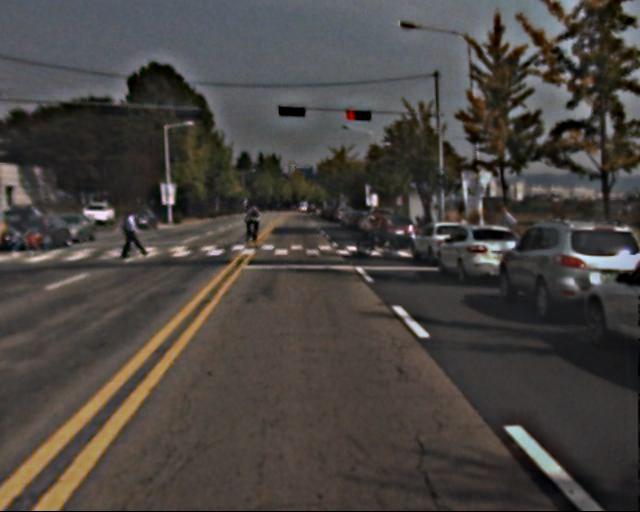person: (20, 213, 54, 252), (122, 210, 143, 262), (242, 203, 262, 252), (371, 206, 389, 250)
